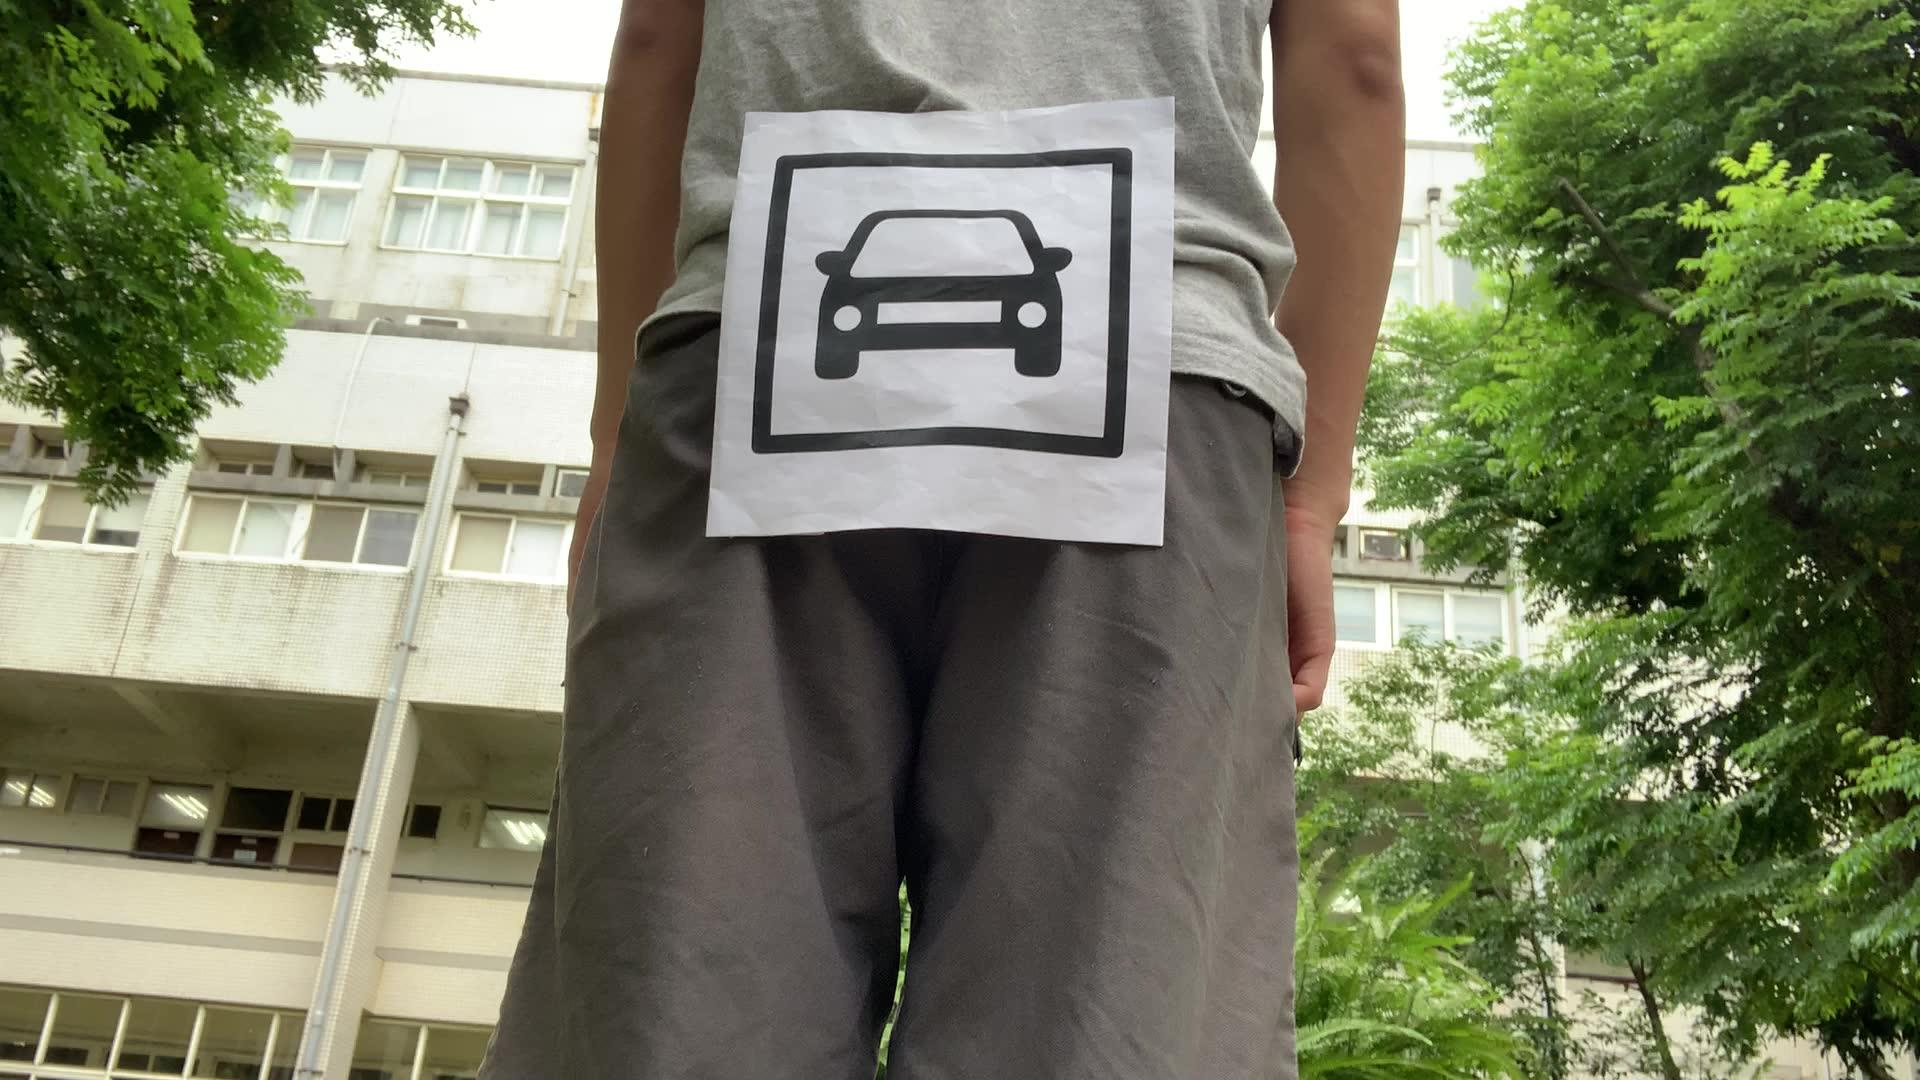car_img: (749, 145, 1135, 462)
